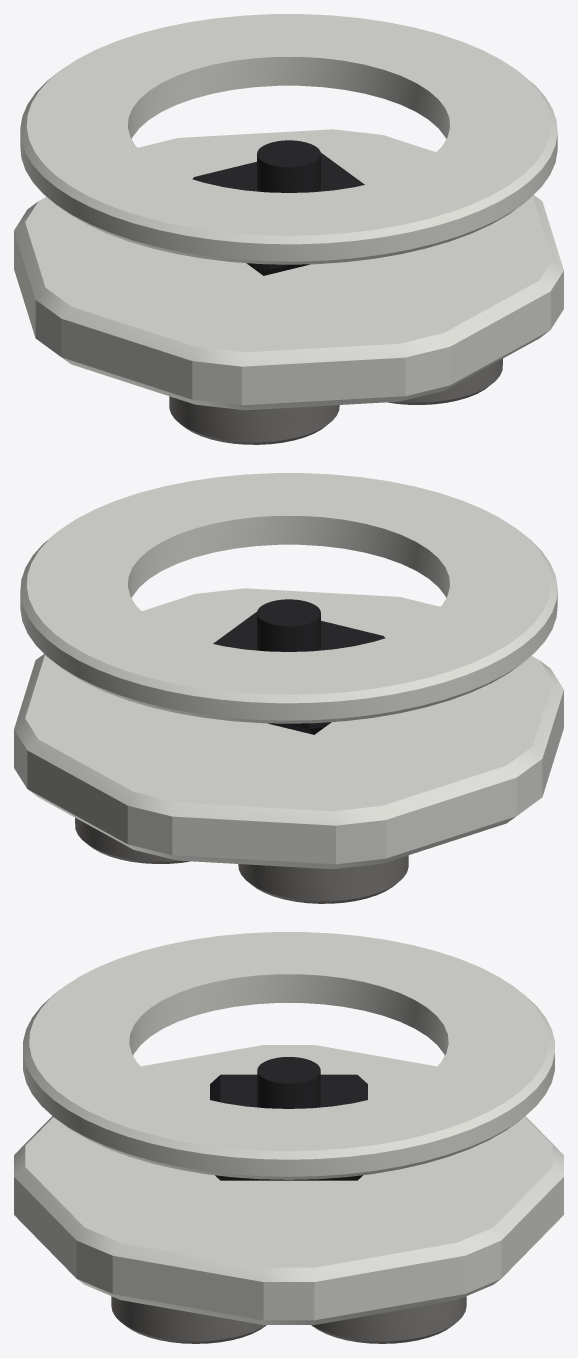
The model's file is ax_prop_16_hall_cluster_s.glb.
3 views of the same model, one above another, from view 1: azimuth 30°, elevation 25°; view 2: azimuth 150°, elevation 25°; view 3: azimuth 270°, elevation 25° (orthographic).
Parts seen in each view (by area): view 1: gimbal_plate, mount_ring, thruster_bodies, gimbal; view 2: gimbal_plate, mount_ring, thruster_bodies, gimbal; view 3: gimbal_plate, mount_ring, thruster_bodies, gimbal.
Boxes of the visible parts, x1=… form: gimbal_plate: x1=14, y1=129, x2=563, y2=410; mount_ring: x1=20, y1=14, x2=557, y2=264; thruster_bodies: x1=169, y1=358, x2=502, y2=444; gimbal: x1=192, y1=140, x2=364, y2=275; gimbal_plate: x1=14, y1=588, x2=563, y2=869; mount_ring: x1=20, y1=473, x2=557, y2=723; thruster_bodies: x1=75, y1=817, x2=408, y2=903; gimbal: x1=213, y1=599, x2=385, y2=734; gimbal_plate: x1=14, y1=1045, x2=563, y2=1324; mount_ring: x1=23, y1=932, x2=554, y2=1179; thruster_bodies: x1=111, y1=1296, x2=466, y2=1343; gimbal: x1=210, y1=1057, x2=367, y2=1180.
Size of the model in its own units: 1.29 by 0.6448 by 1.29.
4 materials, 2 textured.
